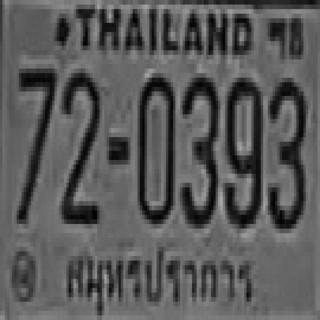N00: (135, 69, 173, 219)
N02: (59, 66, 100, 222)
N03: (180, 73, 218, 224), (267, 75, 305, 226)
N07: (16, 64, 54, 220)
N09: (223, 73, 261, 224)
P57: (58, 237, 260, 319)
